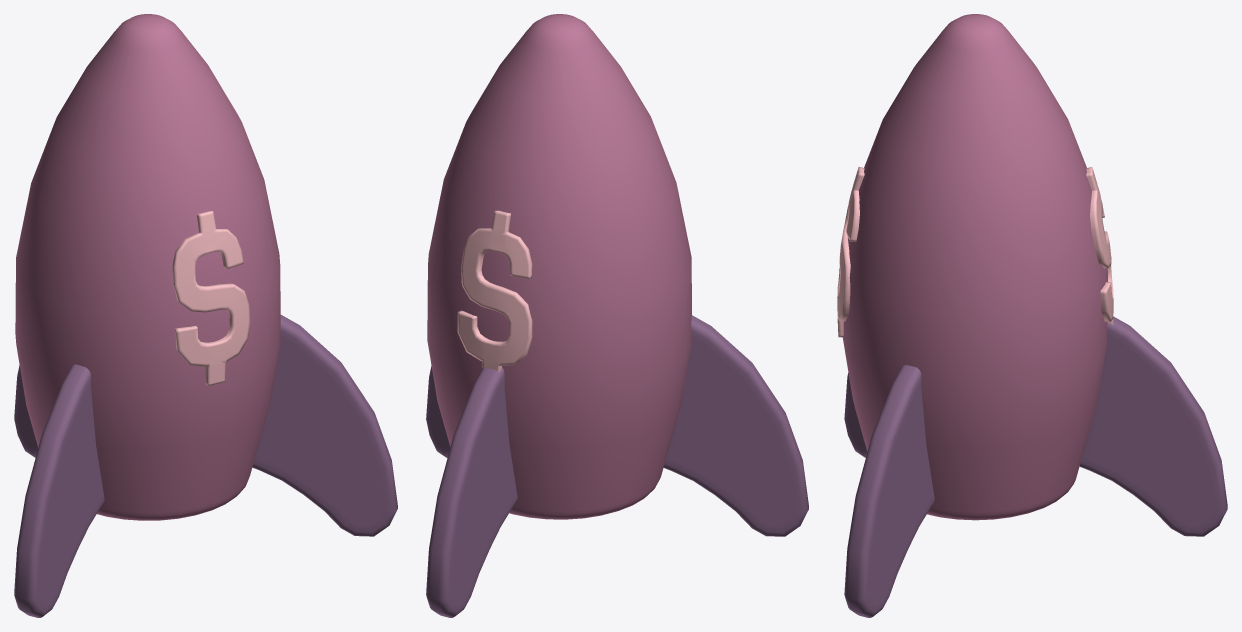
The model's file is rockate.glb.
The picture shows the model from 3 angles, left to right: view 1: azimuth 30°, elevation 25°; view 2: azimuth 150°, elevation 25°; view 3: azimuth 270°, elevation 25°; orthographic projection.
Visible parts, largest first — view 1: Rocket Body, Plane.002, Plane.003, Cube.002, Plane; view 2: Rocket Body, Plane.003, Plane, Cube.004, Plane.002; view 3: Rocket Body, Plane, Plane.002, Cube.002, Cube.004, Plane.003.
Part boxes in pixels (x1=…): Rocket Body: x1=15, y1=14, x2=280, y2=520; Plane.002: x1=252, y1=315, x2=397, y2=536; Plane.003: x1=14, y1=364, x2=104, y2=617; Cube.002: x1=172, y1=210, x2=250, y2=385; Plane: x1=14, y1=365, x2=37, y2=457; Rocket Body: x1=427, y1=14, x2=691, y2=519; Plane.003: x1=663, y1=315, x2=808, y2=536; Plane: x1=426, y1=367, x2=517, y2=617; Cube.004: x1=457, y1=210, x2=532, y2=372; Plane.002: x1=426, y1=366, x2=450, y2=457; Rocket Body: x1=842, y1=14, x2=1107, y2=520; Plane: x1=1079, y1=316, x2=1227, y2=536; Plane.002: x1=844, y1=365, x2=934, y2=617; Cube.002: x1=837, y1=167, x2=864, y2=337; Cube.004: x1=1086, y1=167, x2=1113, y2=324; Plane.003: x1=844, y1=373, x2=867, y2=457.
Bounding box in the file's own units: 2.94 × 3.79 × 2.6.
